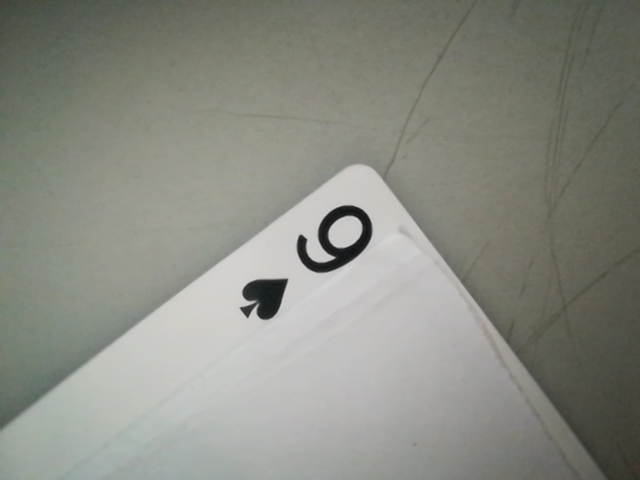ht 9: (229, 194, 402, 323)
